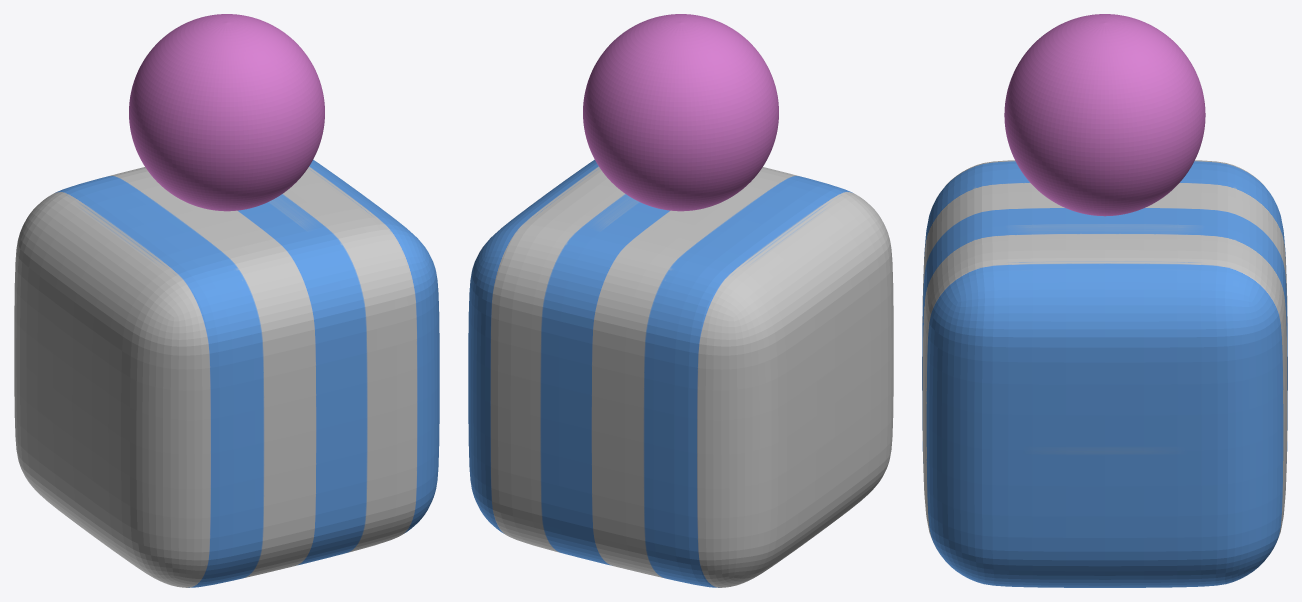
File: BOD3_BMC1_BCC13_BPT1_FRC0_HEA0_HMC10_HCC0_HPT0_ELT0_ERT0_ELL0_ERL0_AP0_AAL0_AAR0_BEK0.fbx
3 views of the same model, side by side, from view 1: azimuth 30°, elevation 25°; view 2: azimuth 150°, elevation 25°; view 3: azimuth 270°, elevation 25° (orthographic). The views are drawn at different scales.
Visible parts, largest first — view 1: Body, Head; view 2: Body, Head; view 3: Body, Head.
Part boxes in pixels (<box>): Body: <box>14,159,439,587</box>; Head: <box>129,14,324,211</box>; Body: <box>468,159,893,587</box>; Head: <box>583,14,778,211</box>; Body: <box>922,160,1287,587</box>; Head: <box>1004,14,1205,216</box>.
Size of the model in its own units: 89.79 by 140 by 89.79.
2 materials, 2 textured.
